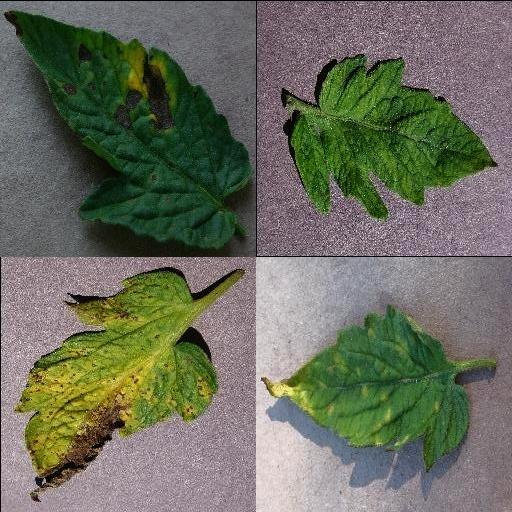Early Blight: (2, 7, 254, 250)
Leaf Mold: (261, 302, 471, 470)
Mosaic Virus: (290, 52, 500, 220)
Septoria: (12, 268, 216, 500)
